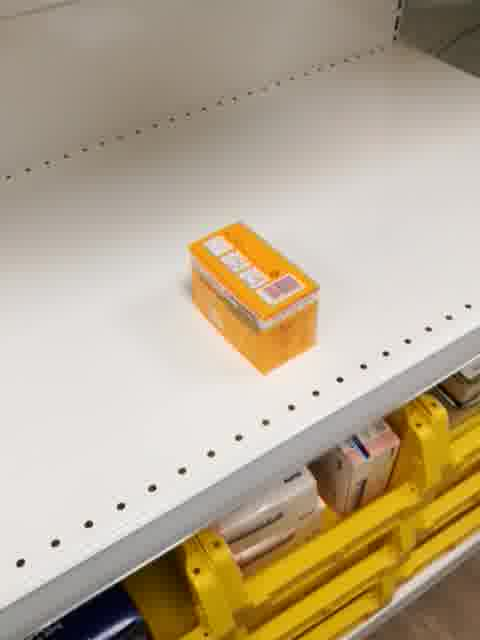jasminetea: (189, 217, 319, 375)
